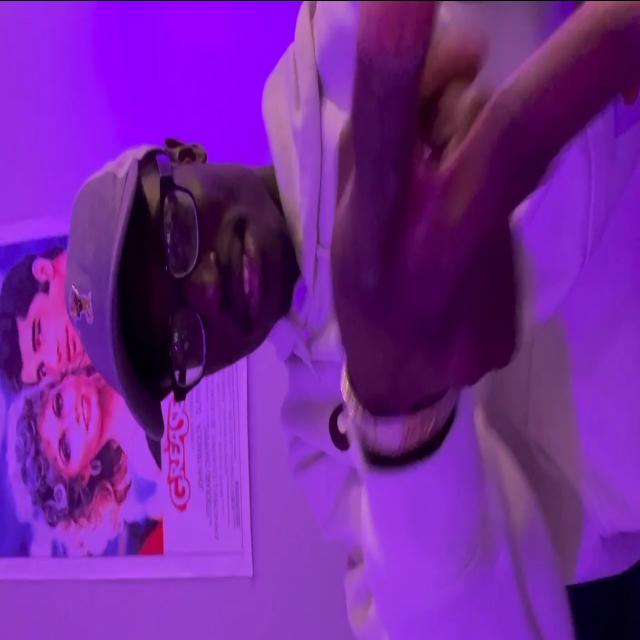Rock: (328, 0, 640, 413)
